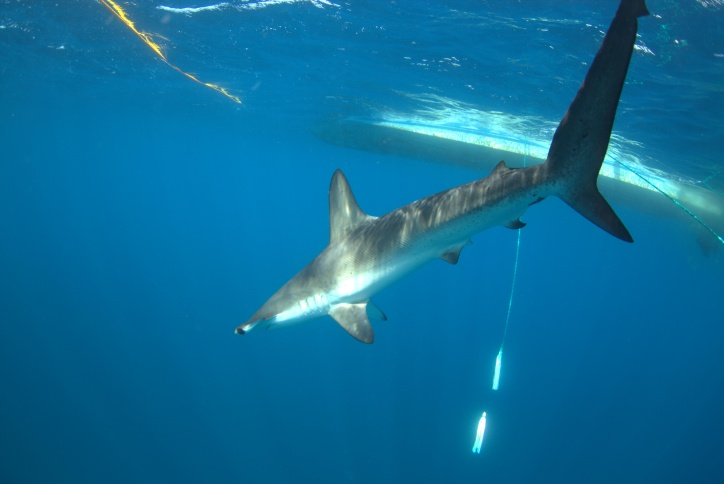Hammer: (218, 1, 660, 356)
